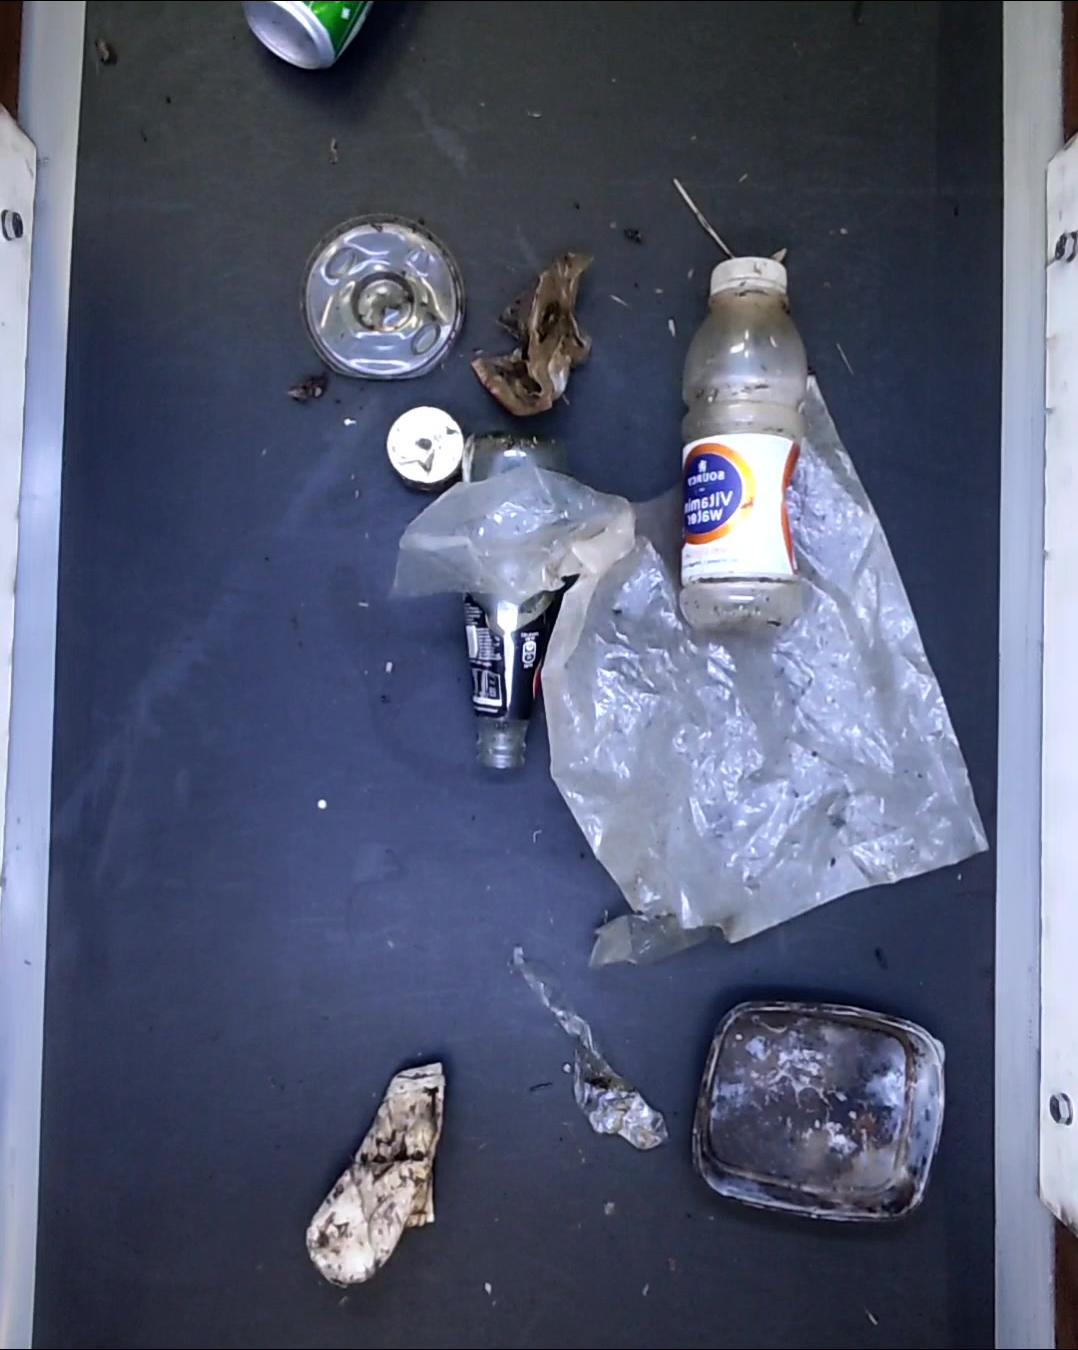Drankblikjes: (240, 0, 372, 69)
Drankflessen - 1-2 liter: (678, 251, 807, 632)
Plastic folies of stukken daarvan 2.5- 50 cm: (393, 373, 991, 940), (505, 957, 671, 1150), (475, 249, 599, 418), (583, 910, 723, 974)
Voedselverpakkingen: (692, 996, 947, 1225)
